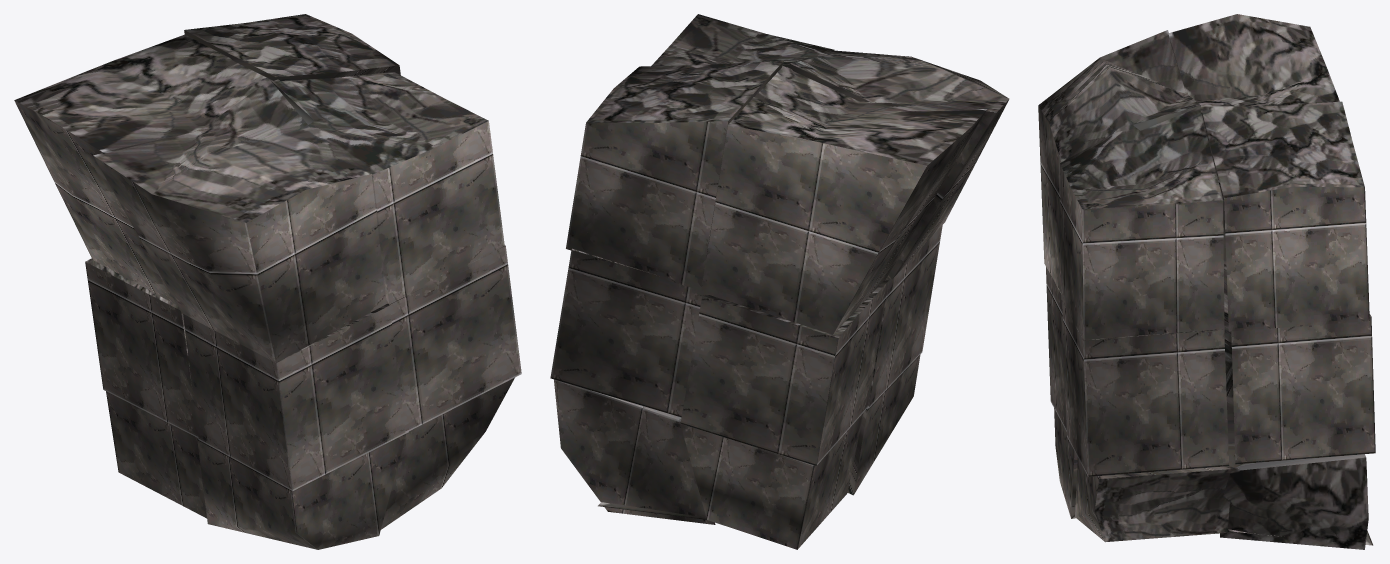
Rendered from INST_SM_DEBRIS_BLOCK_MEDIUMB_DESTROYED_DEBRISBLOCKMEDIUK__AI.fbx.
3 renders of one model, left to right at view 1: azimuth 30°, elevation 25°; view 2: azimuth 150°, elevation 25°; view 3: azimuth 270°, elevation 25°, orthographic. The views are drawn at different scales.
Visible parts, largest first — view 1: INST_SM_DEBRIS_BLOCK_MEDIUMB_DESTROYED_DEBRISBLOCKMEDIUK__AI; view 2: INST_SM_DEBRIS_BLOCK_MEDIUMB_DESTROYED_DEBRISBLOCKMEDIUK__AI; view 3: INST_SM_DEBRIS_BLOCK_MEDIUMB_DESTROYED_DEBRISBLOCKMEDIUK__AI.
Boxes of the visible parts, x1,y1,x2,y2 form: INST_SM_DEBRIS_BLOCK_MEDIUMB_DESTROYED_DEBRISBLOCKMEDIUK__AI: [14, 14, 521, 549]; INST_SM_DEBRIS_BLOCK_MEDIUMB_DESTROYED_DEBRISBLOCKMEDIUK__AI: [550, 14, 1009, 549]; INST_SM_DEBRIS_BLOCK_MEDIUMB_DESTROYED_DEBRISBLOCKMEDIUK__AI: [1038, 14, 1375, 549].
Bounding box in the file's own units: 46003 × 47257 × 35494.
2 materials, 2 textured.
